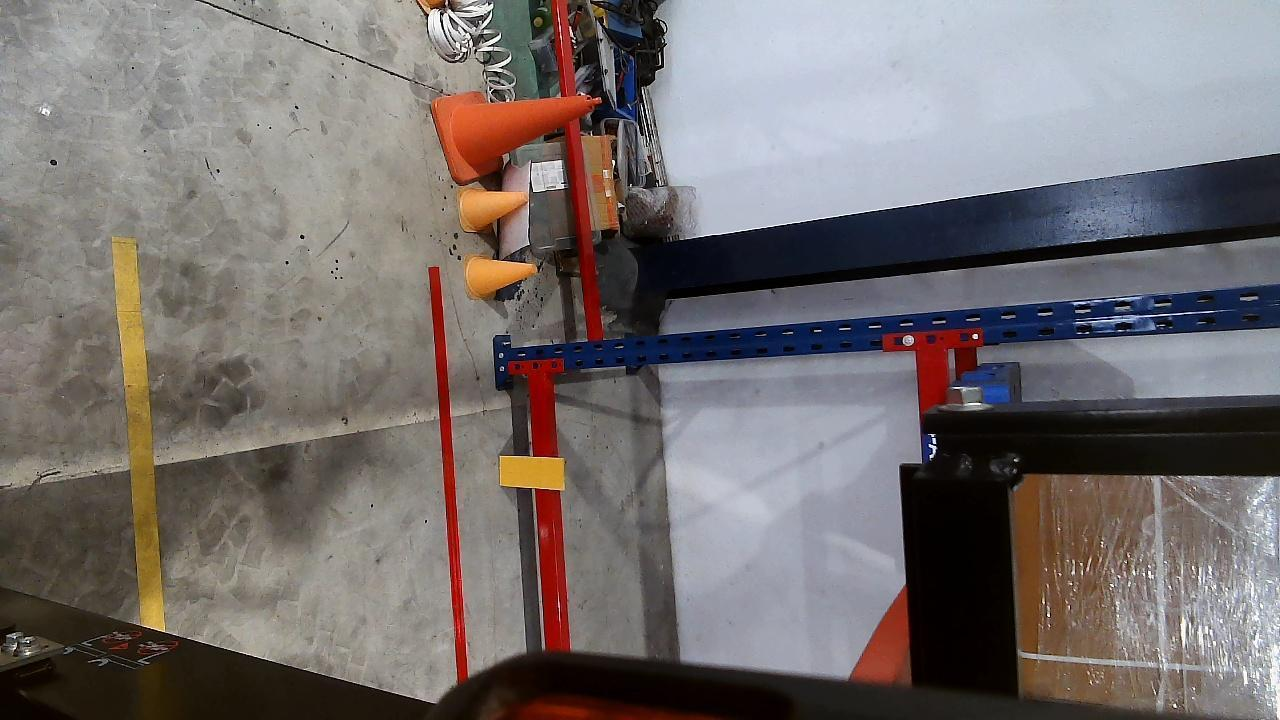red_line: (427, 268, 468, 678)
yellow_line: (109, 235, 164, 628)
